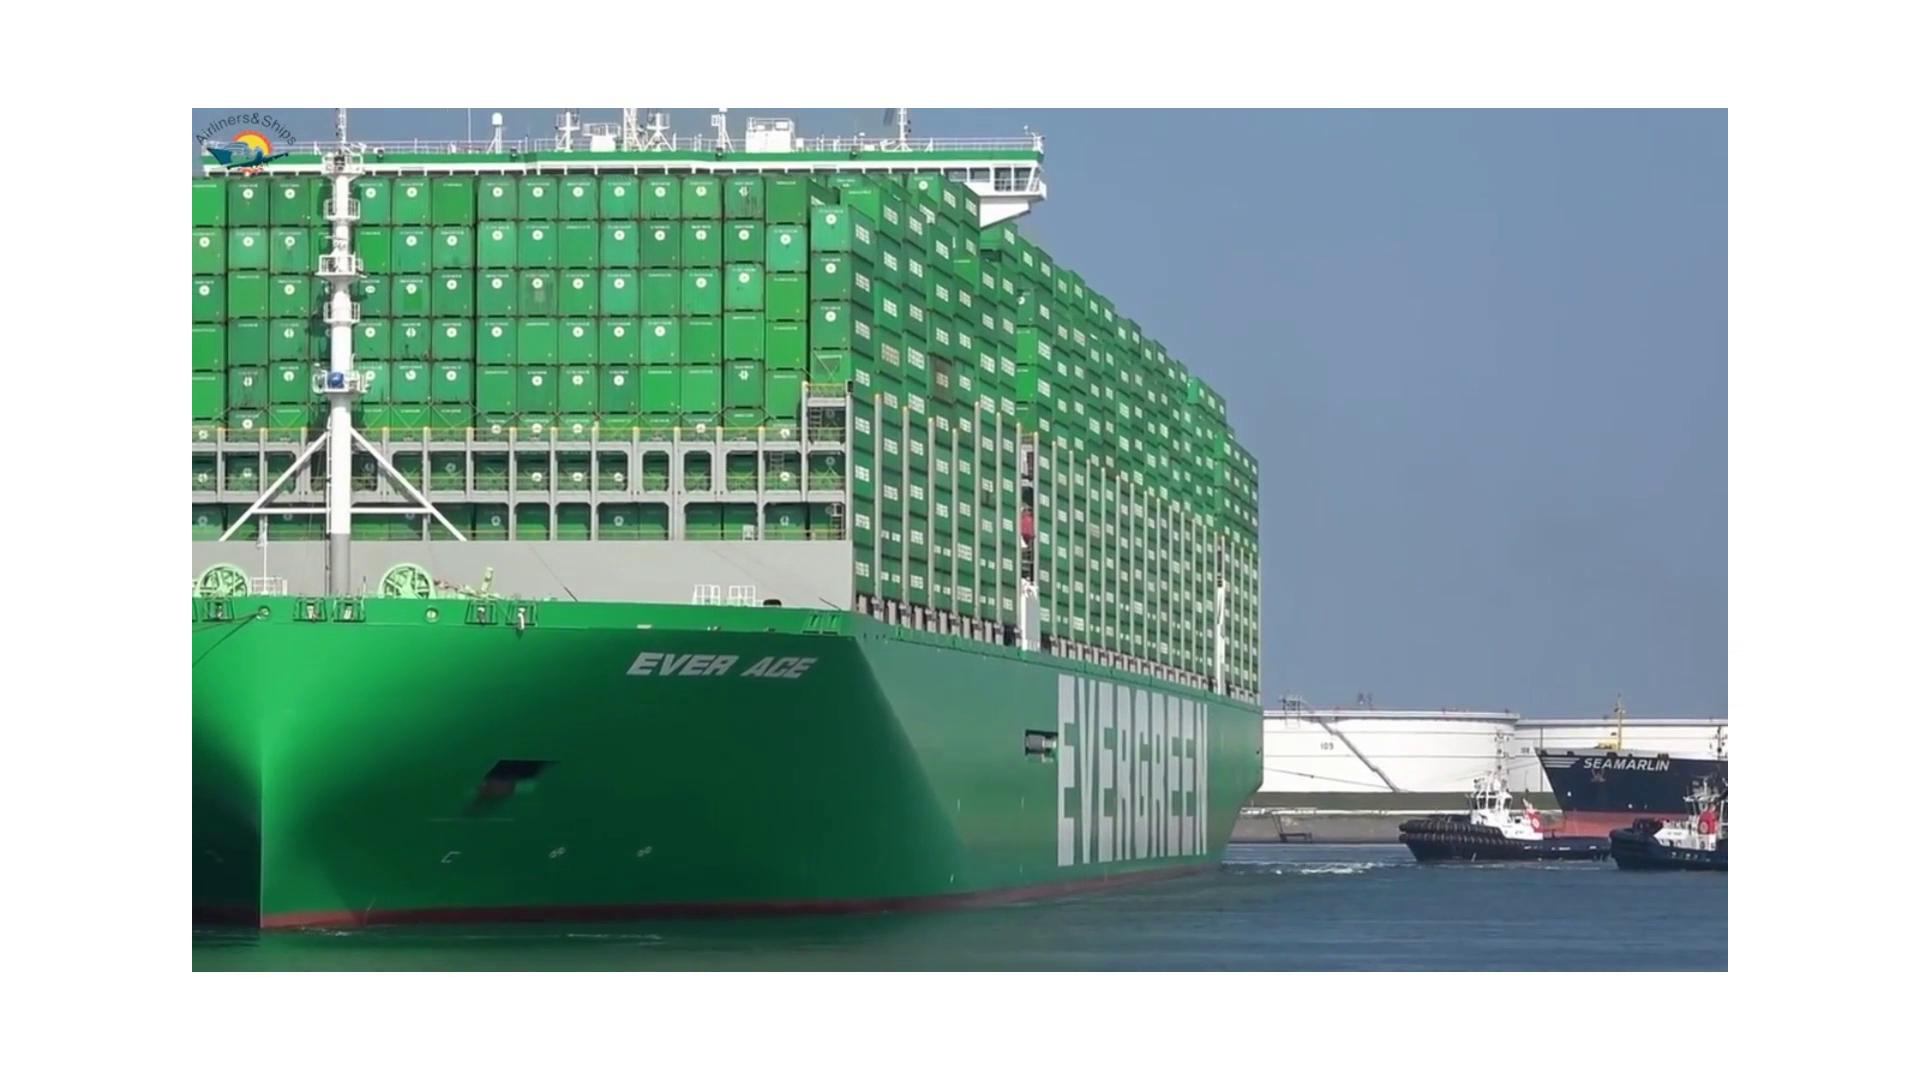OCR: (1031, 646, 1226, 887), (626, 628, 828, 707)
